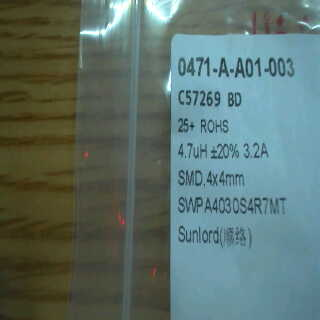4.7uH: (175, 138, 211, 166)
